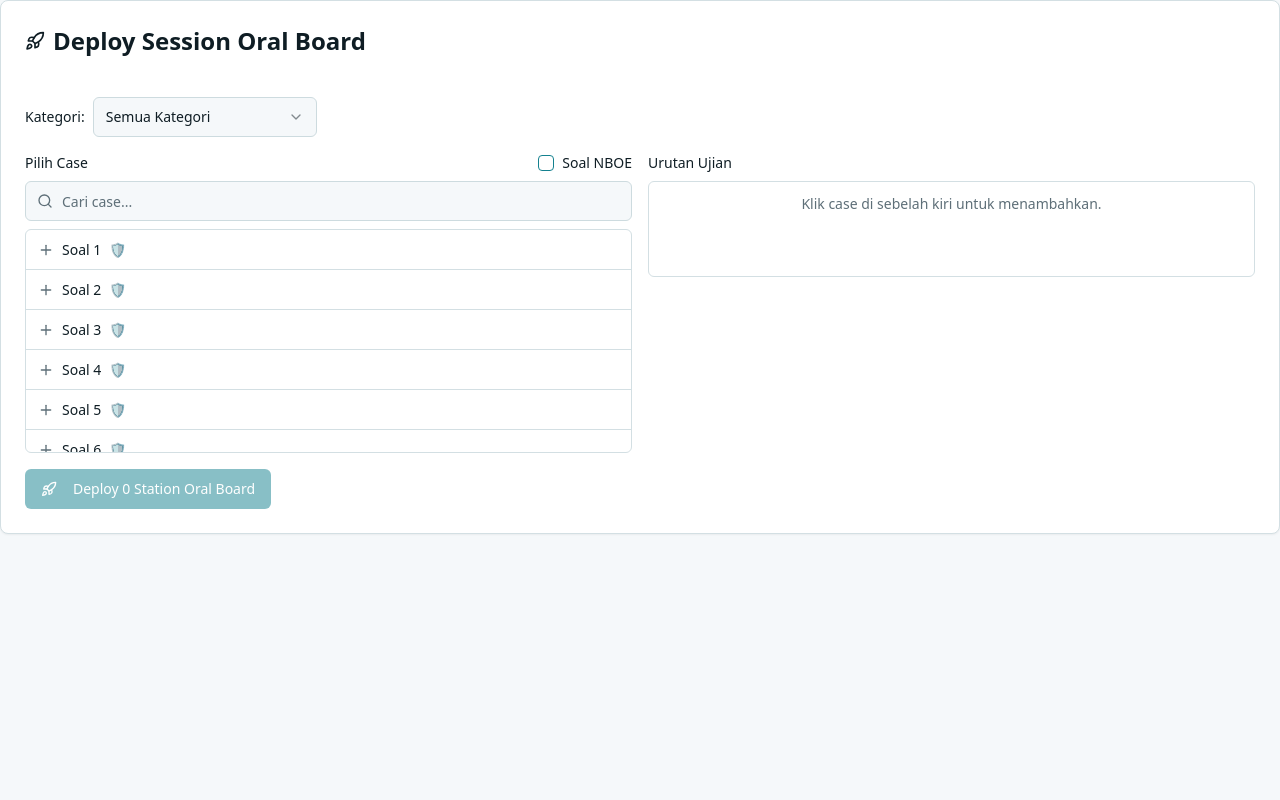
deploys six questions atomically and retries with the same request
Later steps or results of the test are not shown.
What coordinates should you click on to do the following:
click the button "Soal 1🛡️"
I would click on:
 (82, 249)
Its box is [26, 230, 631, 270].
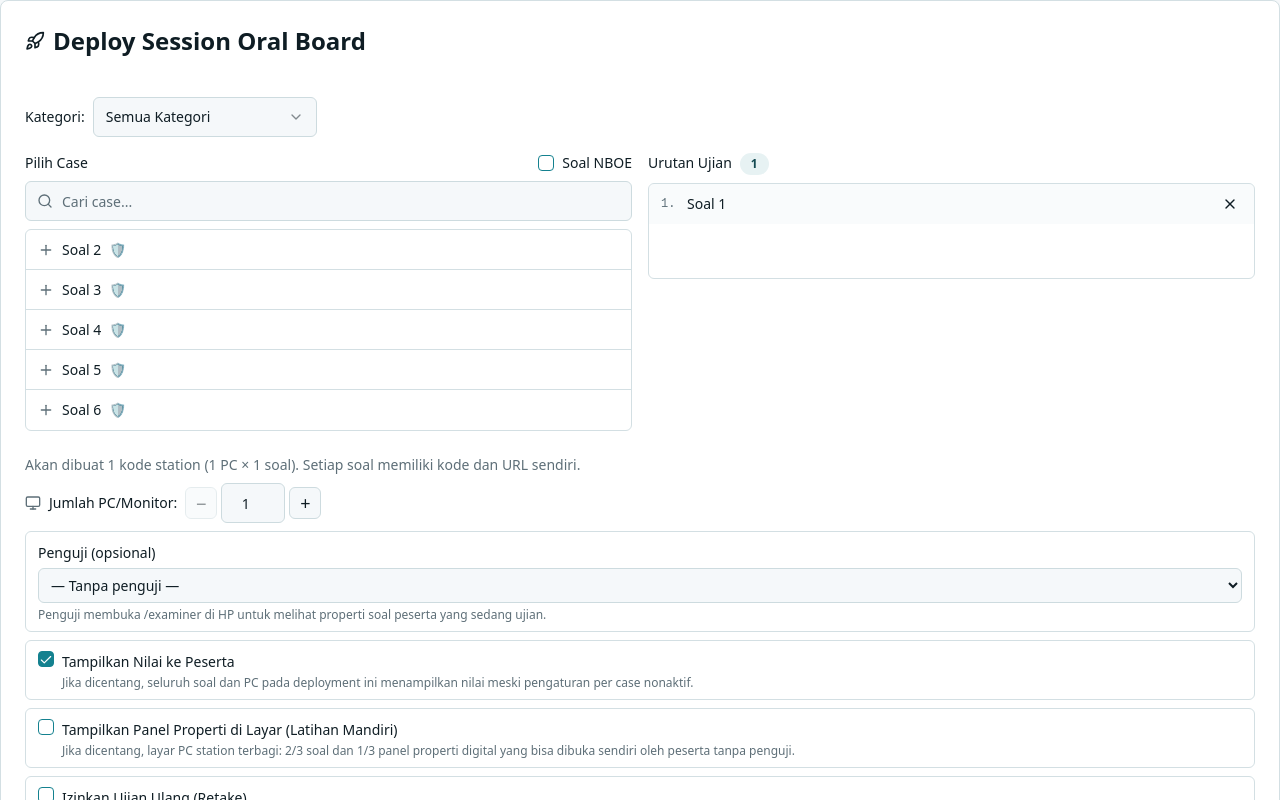
What coordinates should you click on to do the following:
click the button "Soal 2🛡️"
I would click on:
 (82, 249)
Its box is [26, 230, 631, 270].
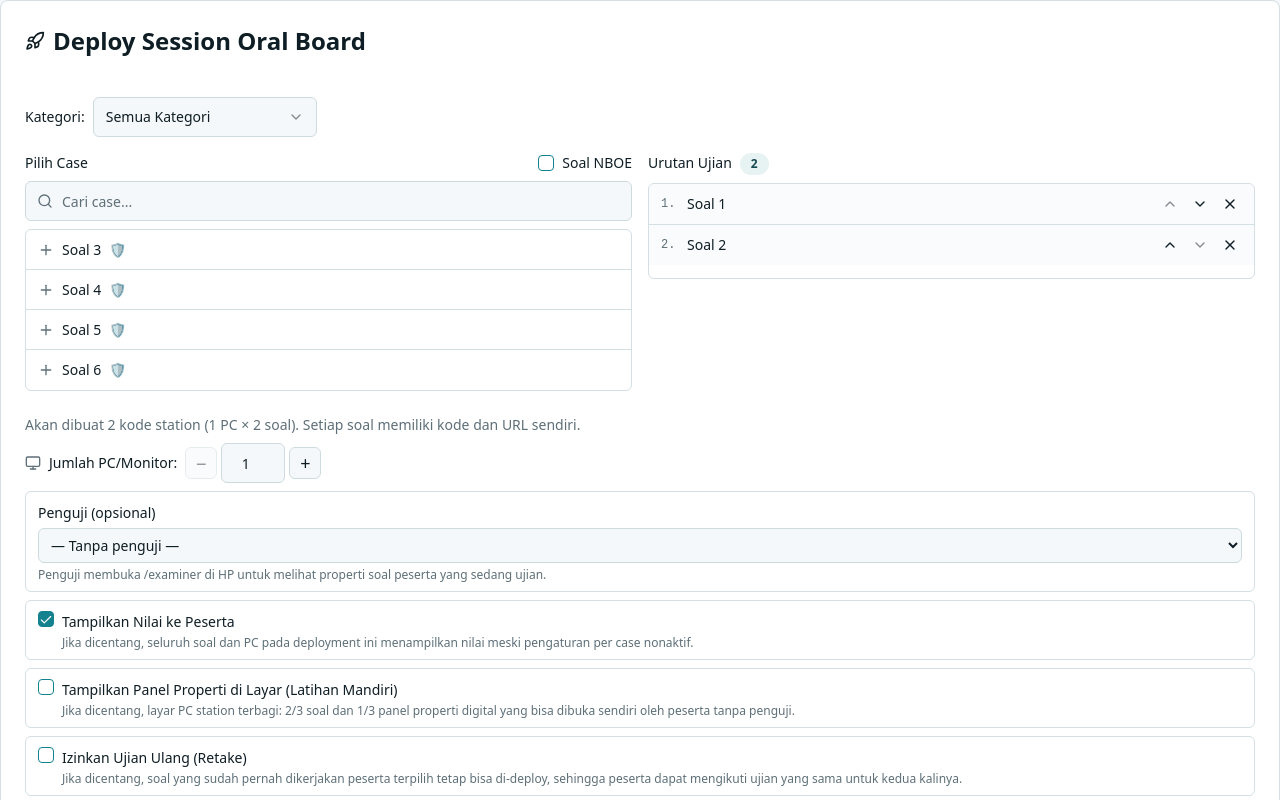
What coordinates should you click on to do the following:
click the button "Soal 3🛡️"
I would click on:
 (82, 249)
Its box is [26, 230, 631, 270].
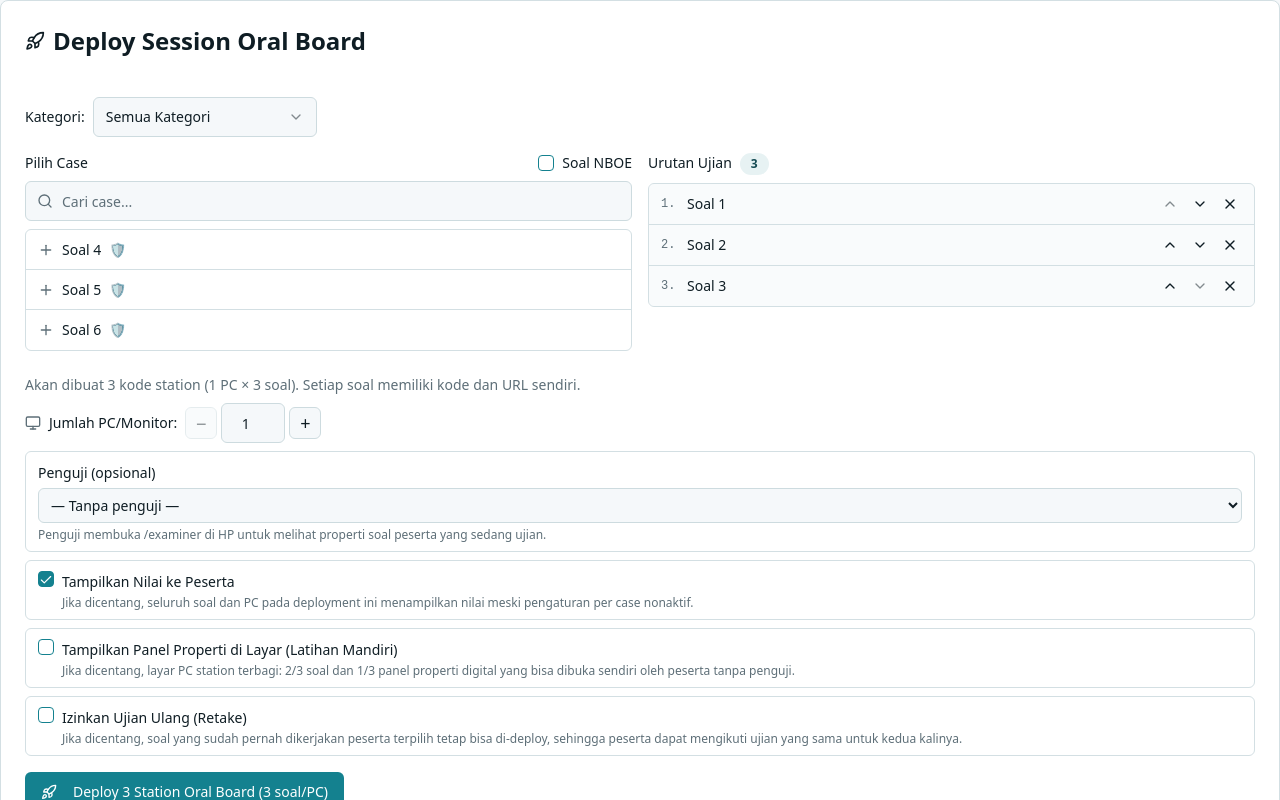
What coordinates should you click on to do the following:
click the button "Soal 4🛡️"
I would click on:
 (82, 249)
Its box is [26, 230, 631, 270].
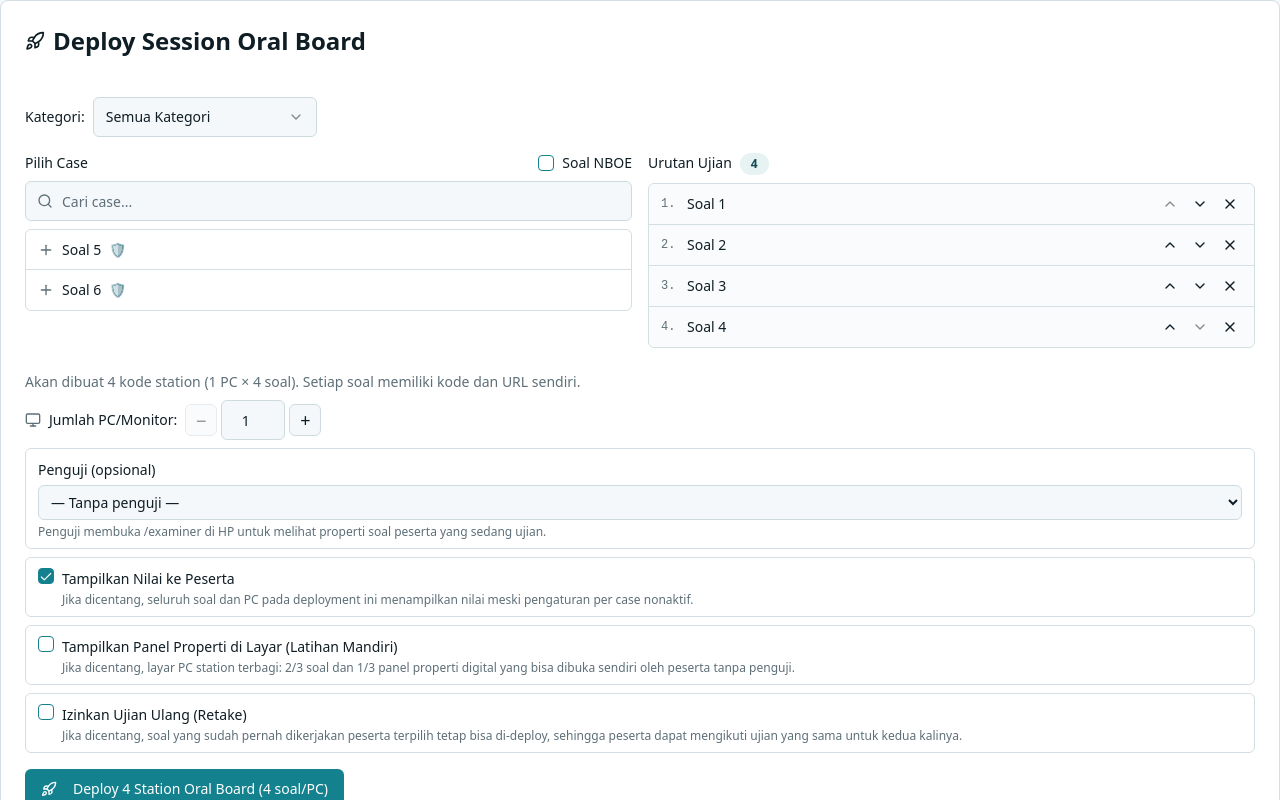
What coordinates should you click on to do the following:
click the button "Soal 5🛡️"
I would click on:
 (82, 249)
Its box is [26, 230, 631, 270].
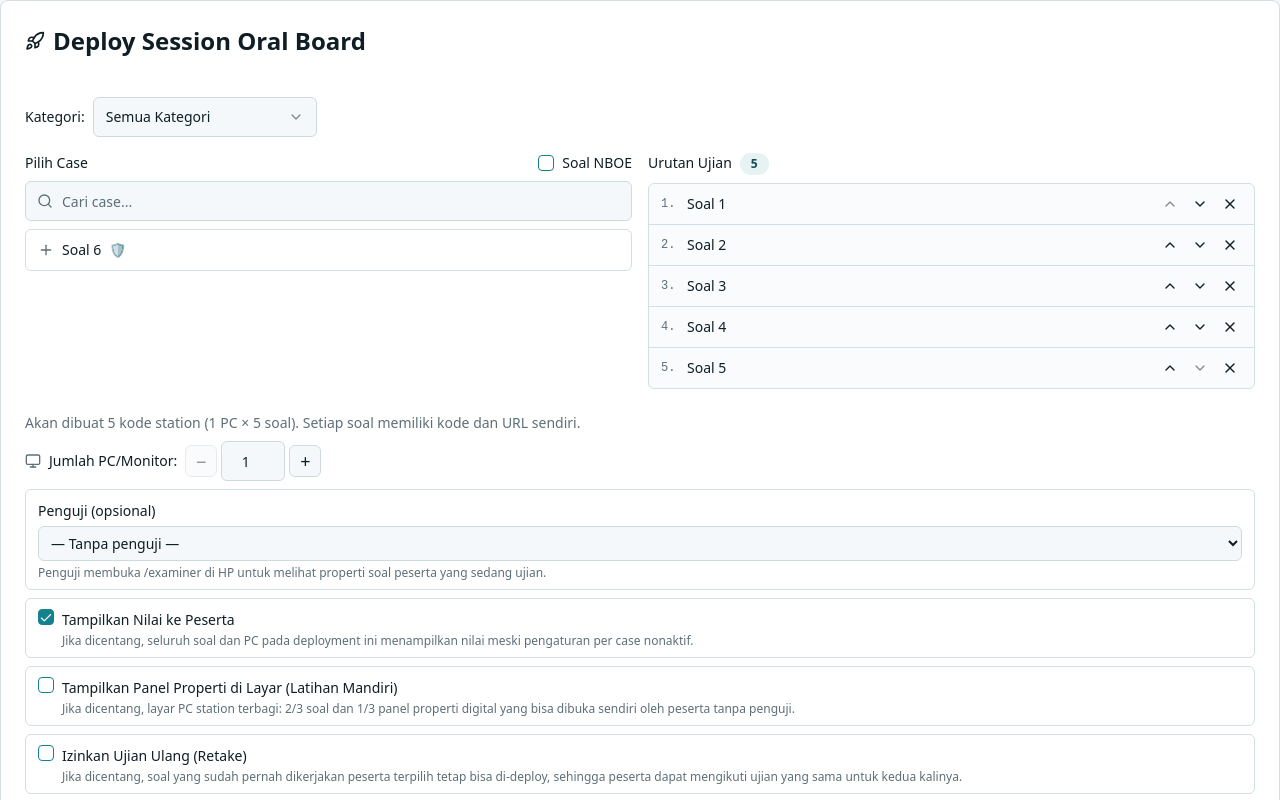
What coordinates should you click on to do the following:
click the button "Soal 6🛡️"
I would click on:
 (82, 250)
Its box is [26, 230, 631, 270].
(page scrolled)
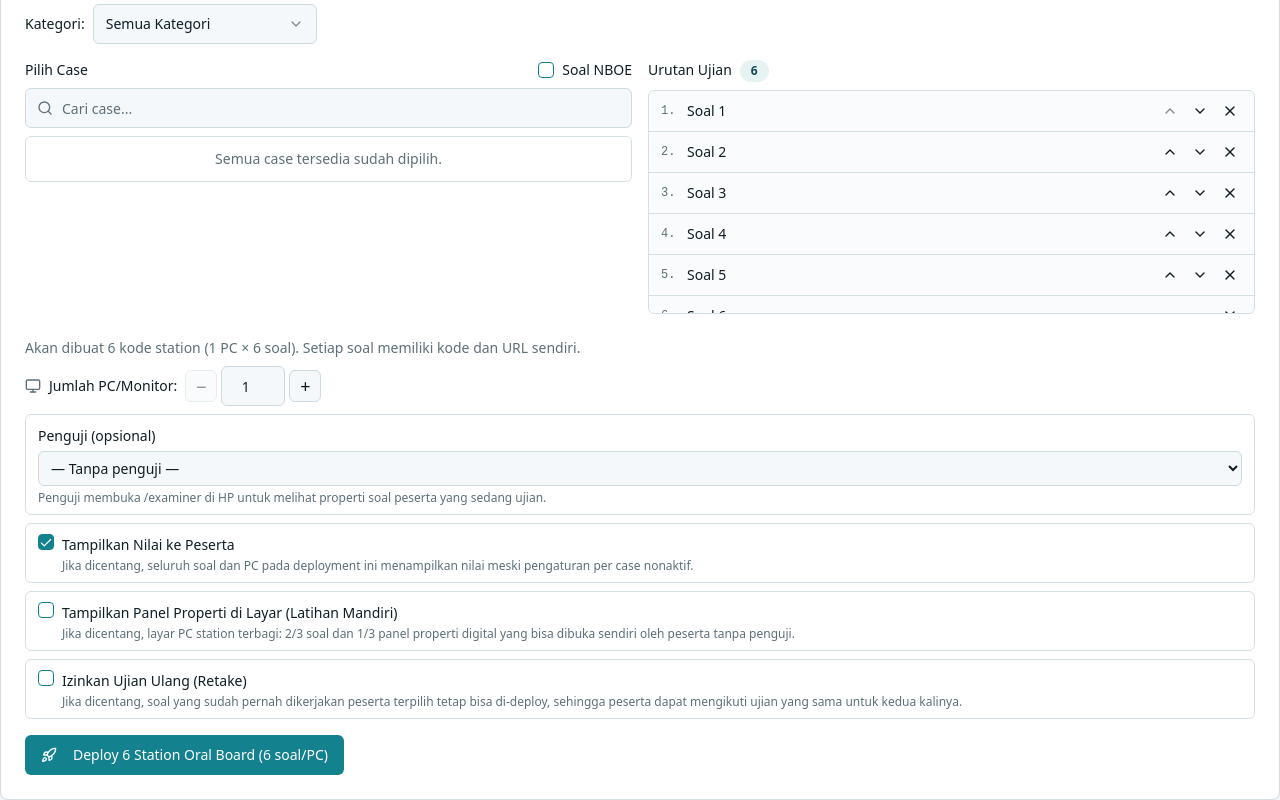
What coordinates should you click on to do the following:
click the button "Deploy 6 Station Oral Board (6 soal/PC)"
I would click on:
 (184, 755)
Its box is [25, 735, 344, 775].
Result: the button "Deploy 6 Station Oral Board (6 soal/PC)" is enabled at [25, 735, 344, 775]
